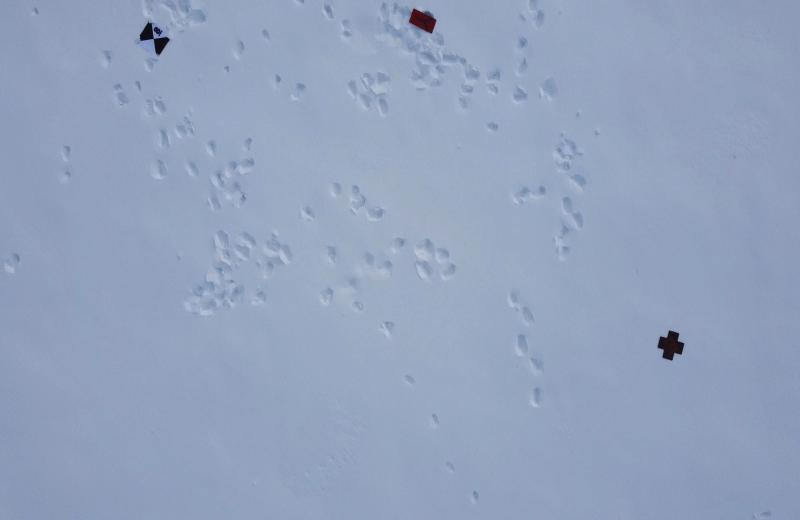Cross: (657, 325, 687, 361)
Rectangle: (406, 7, 439, 38)
